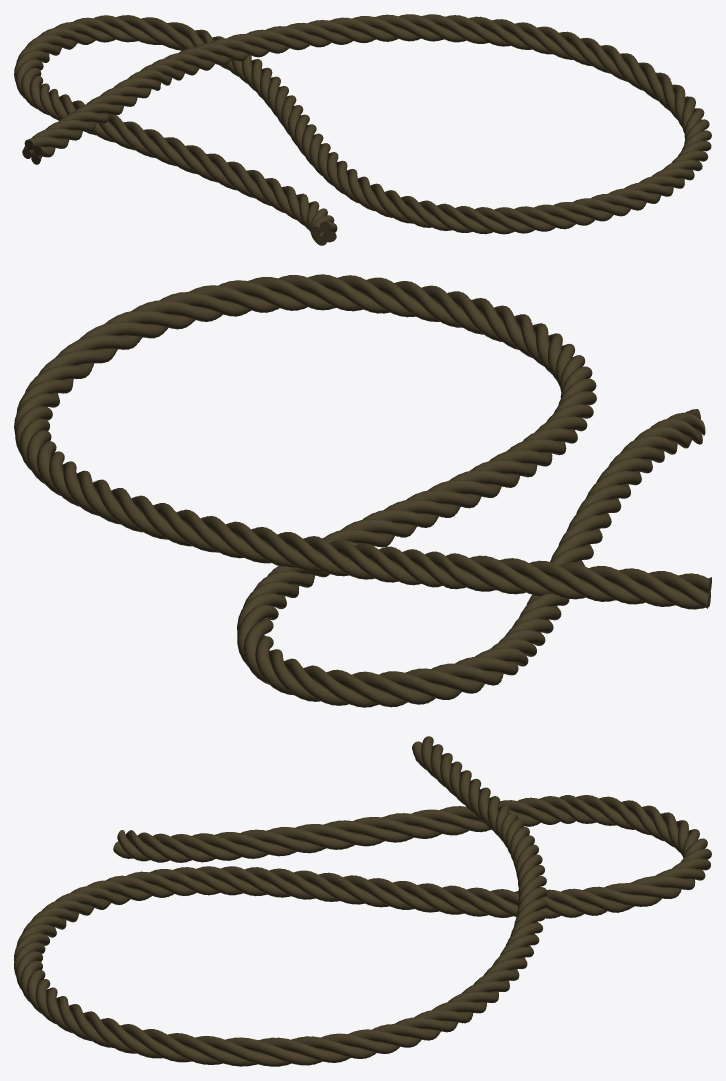
Rendered from hairrope.fbx.
3 renders of one model, top to bottom at view 1: azimuth 30°, elevation 25°; view 2: azimuth 150°, elevation 25°; view 3: azimuth 270°, elevation 25°, orthographic. The views are drawn at different scales.
Parts seen in each view (by area): view 1: Cylinder04; view 2: Cylinder04; view 3: Cylinder04.
Part boxes in pixels (bbox=[...]): Cylinder04: bbox=[14, 14, 711, 245]; Cylinder04: bbox=[14, 274, 711, 707]; Cylinder04: bbox=[14, 736, 711, 1066].
Bounding box in the file's own units: 16.39 × 1.33 × 16.33.
